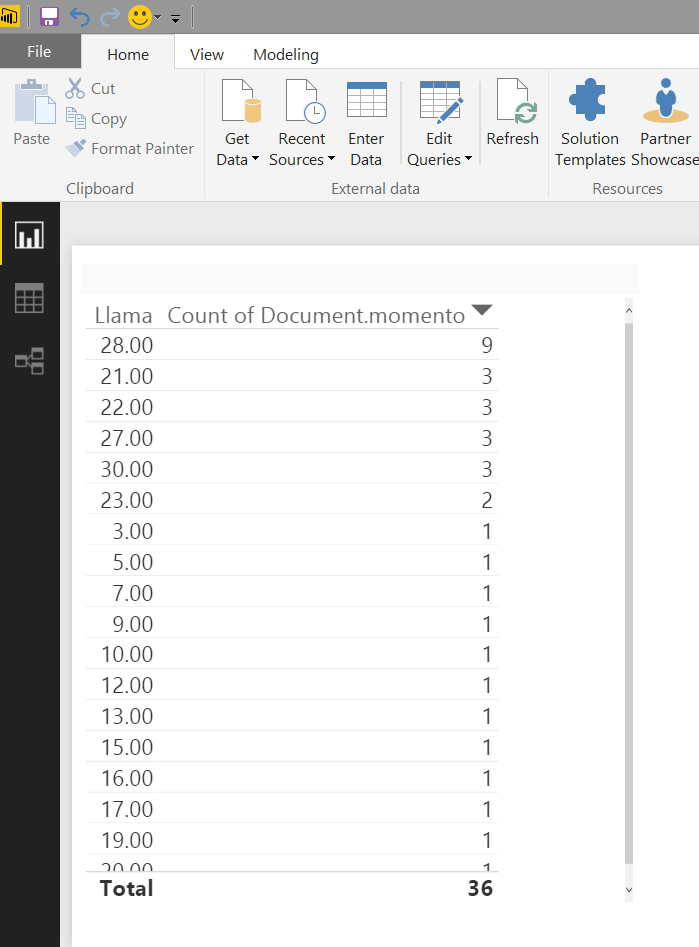

This screenshot's page, from the dashboard's own definition file:
{"tool":"powerbi","page":{"name":"Page 1","canvas":[1280,720],"ordinal":0},"visuals":[{"type":"table","fields":{"Values":["newCollectionOutput (2).Llama","newCollectionOutput (2).Document.momento"]},"box":[9.6,19.2,595.9,655.2],"z":1}]}

Visuals, with their boxes on the page's 1280x720 design canvas (x1, y1, x2, y2). These are canvas units, not pixel positions in the 699x947 screenshot, which may show the page scaled, cropped or inside an application window:
table - newCollectionOutput (2).Llama x newCollectionOutput (2).Document.momento: BBox(10, 19, 606, 674)
